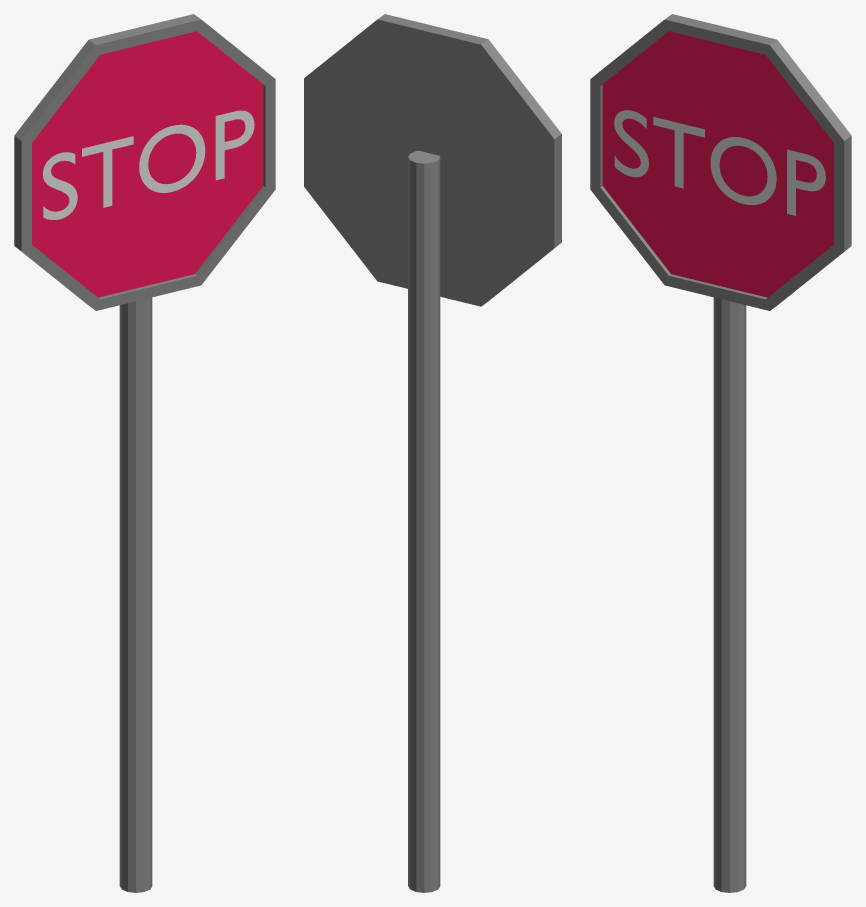
The model's file is Sign_Stop.fbx.
3 renders of one model, left to right at view 1: azimuth 30°, elevation 25°; view 2: azimuth 150°, elevation 25°; view 3: azimuth 330°, elevation 25°, orthographic.
Visible parts, largest first — view 1: Cylinder, Text; view 2: Cylinder; view 3: Cylinder, Text.
Part boxes in pixels (x1=…): Cylinder: x1=14, y1=14, x2=275, y2=892; Text: x1=43, y1=110, x2=254, y2=219; Cylinder: x1=304, y1=14, x2=561, y2=892; Cylinder: x1=590, y1=14, x2=851, y2=892; Text: x1=614, y1=110, x2=825, y2=215.
Bounding box in the file's own units: 1.8 × 5.83 × 0.2549.
